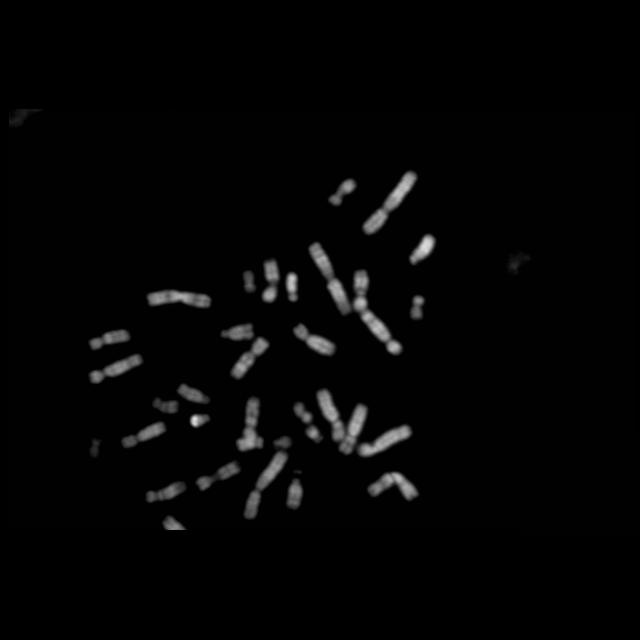chromosome: (363, 171, 417, 235), (245, 451, 288, 519), (310, 242, 350, 314), (359, 424, 413, 458), (361, 311, 402, 354), (231, 336, 269, 379), (90, 354, 143, 384), (317, 388, 345, 442), (338, 404, 368, 454), (368, 472, 418, 501), (196, 461, 242, 491), (293, 324, 335, 356), (145, 290, 210, 310), (122, 422, 165, 448), (90, 328, 130, 349), (146, 482, 186, 502), (410, 234, 436, 264), (329, 178, 356, 206), (245, 398, 260, 448), (263, 260, 279, 304), (353, 270, 369, 312), (178, 384, 210, 404), (221, 323, 253, 341), (286, 478, 304, 510), (292, 401, 312, 423), (152, 398, 178, 414), (287, 272, 299, 302), (306, 425, 324, 443), (237, 438, 263, 450), (190, 414, 210, 428), (412, 296, 424, 318), (243, 272, 255, 292), (274, 436, 292, 449), (90, 438, 100, 458)
